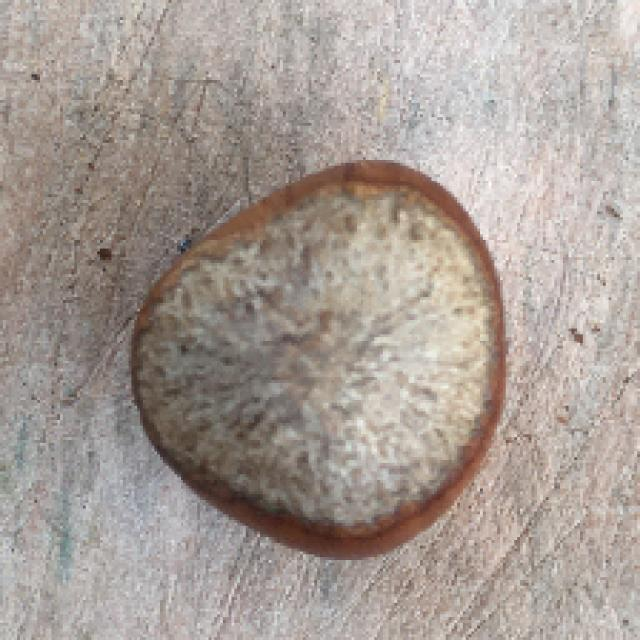qualityHazelnut: (121, 150, 516, 571)
